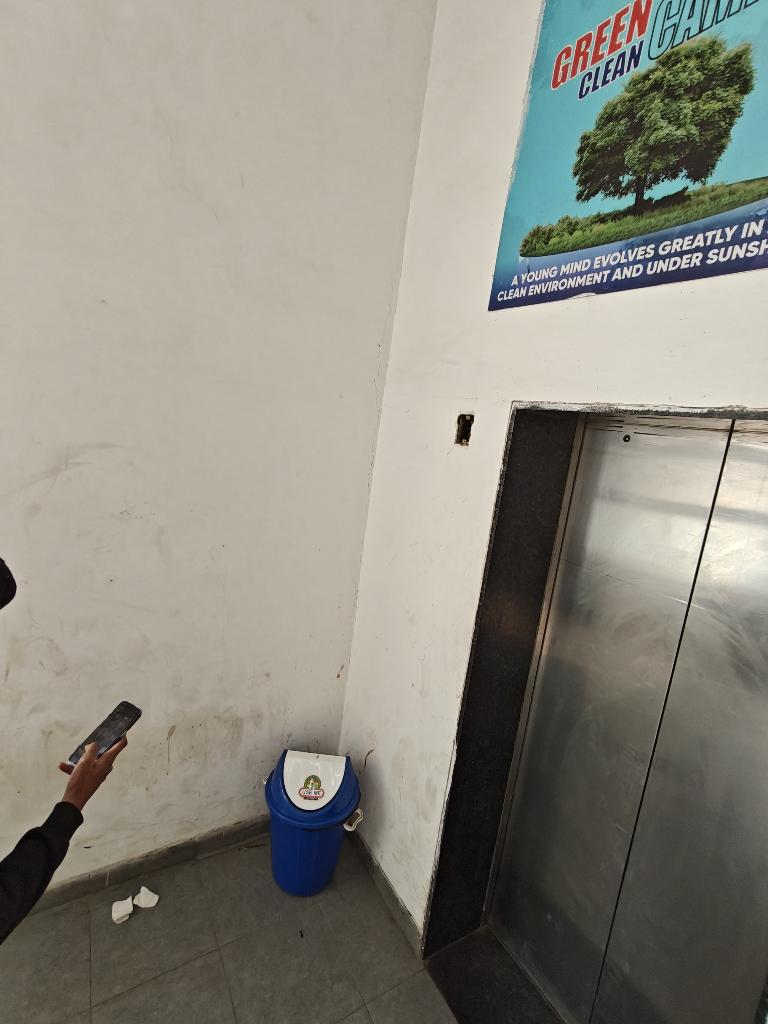dustbin: (231, 723, 384, 905)
